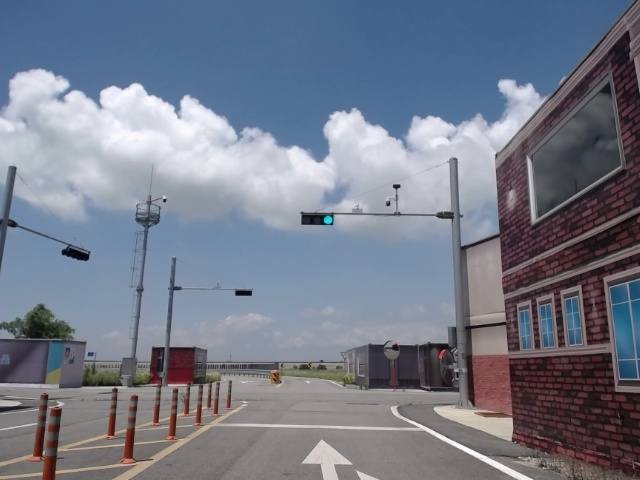green_3: (302, 214, 333, 224)
